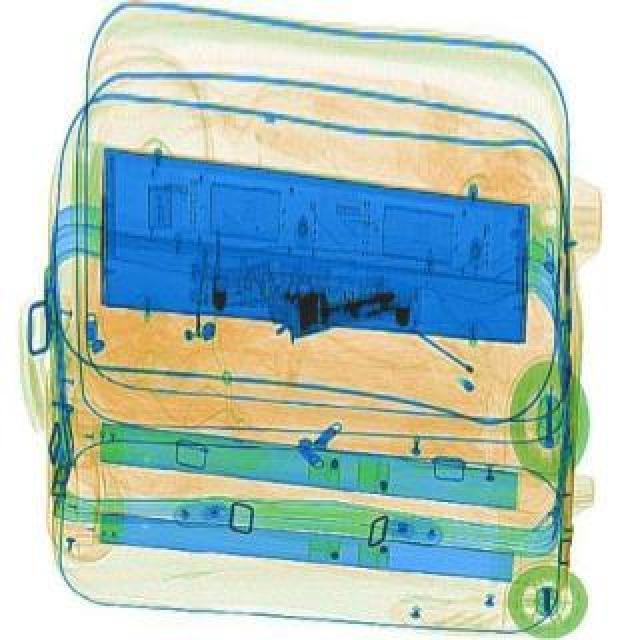gun: (248, 260, 412, 336)
